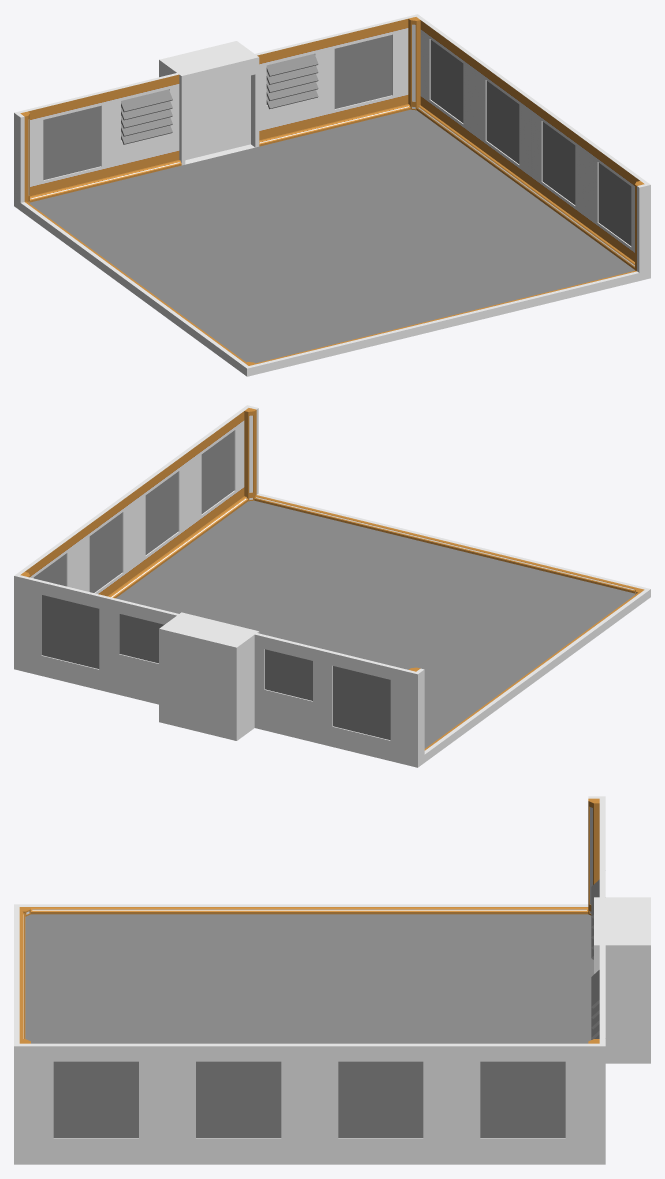
Rendered from Factoryx2.FBX.
3 views of the same model, one above another, from view 1: azimuth 30°, elevation 25°; view 2: azimuth 150°, elevation 25°; view 3: azimuth 270°, elevation 25° (orthographic). The views are drawn at different scales.
Parts seen in each view (by area): view 1: WallGround, WallRight, Elevator, WallBackRight, WallBackLeft, WindowBackLeft1, WindowBackRight1, WindowBackRight2, WindowBackLeft2, WindowRight2, WindowRight4, WindowRight1 (+4 smaller); view 2: WallGround, Elevator, WallRight, WallBackLeft, WallBackRight, WindowBackLeft1, WindowBackRight1, WindowRight3, WindowRight4, WindowRight2, WindowBackLeft2, ColumnBL (+4 smaller); view 3: WallGround, WallRight, Elevator, WindowRight1, WindowRight2, WindowRight3, WindowRight4, ColumnBR, ColumnFR, ColumnBL, WallBackLeft, WallBackRight (+1 smaller).
Boxes of the visible parts, box(x1,y1,x2,y2) form: WallGround: box(14, 104, 650, 376); WallRight: box(420, 19, 643, 261); Elevator: box(159, 41, 259, 165); WallBackRight: box(255, 17, 408, 140); WallBackLeft: box(26, 73, 179, 196); WindowBackLeft1: box(334, 35, 392, 108); WindowBackRight1: box(43, 106, 100, 180); WindowBackRight2: box(266, 54, 318, 109); WindowBackLeft2: box(121, 89, 172, 144); WindowRight2: box(486, 81, 519, 163); WindowRight4: box(598, 163, 631, 245); WindowRight1: box(430, 40, 463, 122); WallGround: box(14, 493, 650, 767); Elevator: box(159, 612, 259, 740); WallRight: box(21, 410, 244, 596); WallBackLeft: box(254, 633, 407, 756); WallBackRight: box(25, 577, 178, 696); WindowBackLeft1: box(41, 595, 99, 668); WindowBackRight1: box(333, 666, 390, 740); WindowRight3: box(145, 472, 178, 554); WindowRight4: box(201, 431, 234, 513); WindowRight2: box(89, 513, 122, 592); WindowBackLeft2: box(265, 649, 312, 700); ColumnBL: box(406, 667, 424, 759); WallGround: box(14, 904, 605, 1164); WallRight: box(31, 1043, 588, 1154); Elevator: box(594, 897, 650, 1063); WindowRight1: box(480, 1061, 565, 1138); WindowRight2: box(338, 1061, 423, 1138); WindowRight3: box(196, 1061, 281, 1138); WindowRight4: box(53, 1061, 138, 1138); ColumnBR: box(588, 1039, 605, 1154); ColumnFR: box(14, 1039, 30, 1154); ColumnBL: box(588, 796, 605, 909); WallBackLeft: box(599, 803, 605, 897); WallBackRight: box(599, 945, 605, 1038).
Bounding box in the file's own units: 2.64 × 0.5842 × 2.84.
